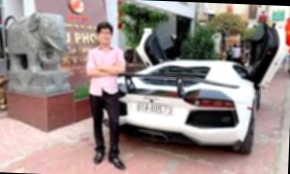Bien-so: (136, 102, 173, 114)
